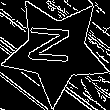N_E: (30, 29, 82, 72)
